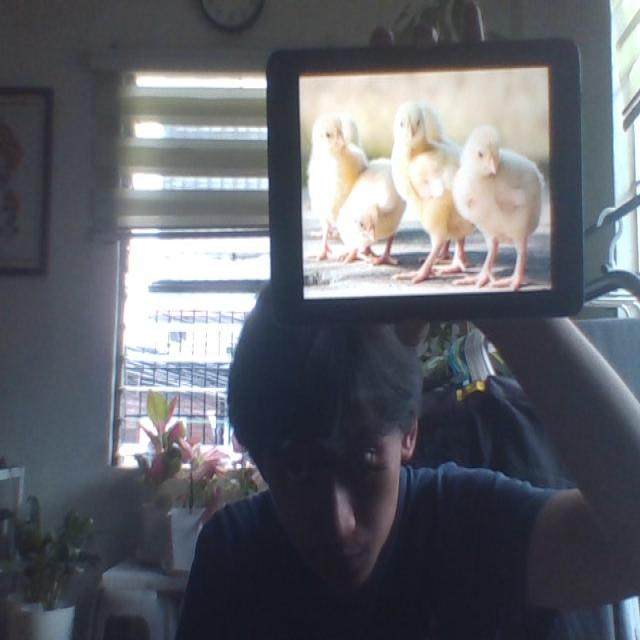Healthy: (455, 122, 546, 293), (390, 105, 471, 288), (310, 114, 361, 205)
Sick: (342, 154, 409, 281)
